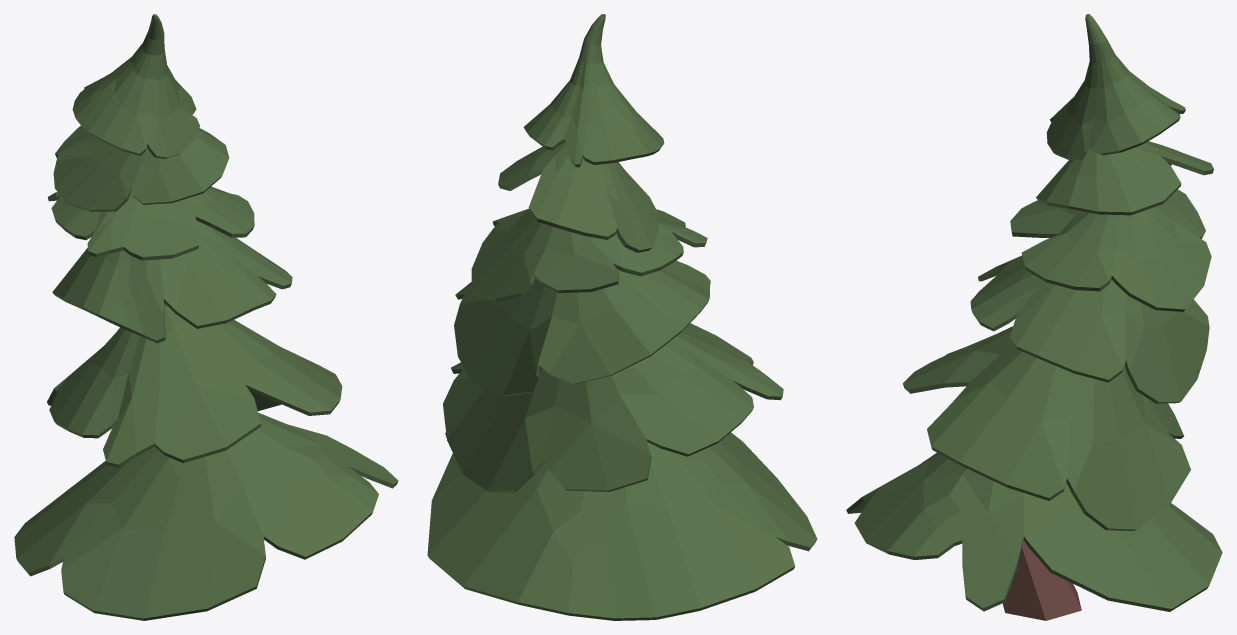
Rendered from pine-tree.glb.
3 views of the same model, side by side, from view 1: azimuth 30°, elevation 25°; view 2: azimuth 150°, elevation 25°; view 3: azimuth 270°, elevation 25° (orthographic). The views are drawn at different scales.
Parts seen in each view (by area): view 1: PineTree_3; view 2: PineTree_3; view 3: PineTree_3.
Boxes of the visible parts, box(x1,y1,x2,y2) form: PineTree_3: box(14, 14, 398, 620); PineTree_3: box(427, 14, 817, 620); PineTree_3: box(846, 14, 1222, 620).
Bounding box in the file's own units: 2.16 × 3.3 × 1.95.
